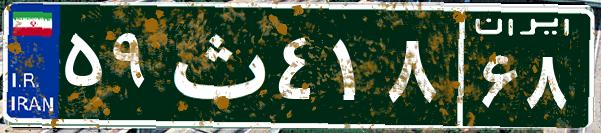1: (330, 28, 385, 110)
4: (273, 28, 330, 110)
5: (57, 26, 110, 107)
6: (475, 38, 525, 113)
8: (385, 28, 445, 110), (525, 38, 570, 115)
9: (110, 28, 158, 105)
ث: (158, 15, 273, 115)
